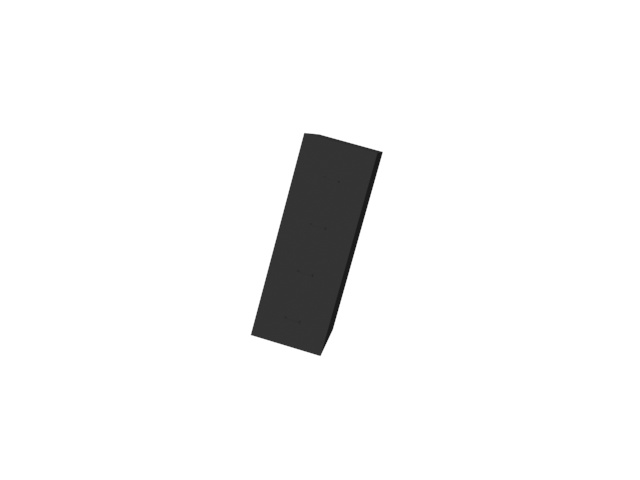file_cabinet: (249, 129, 384, 360)
